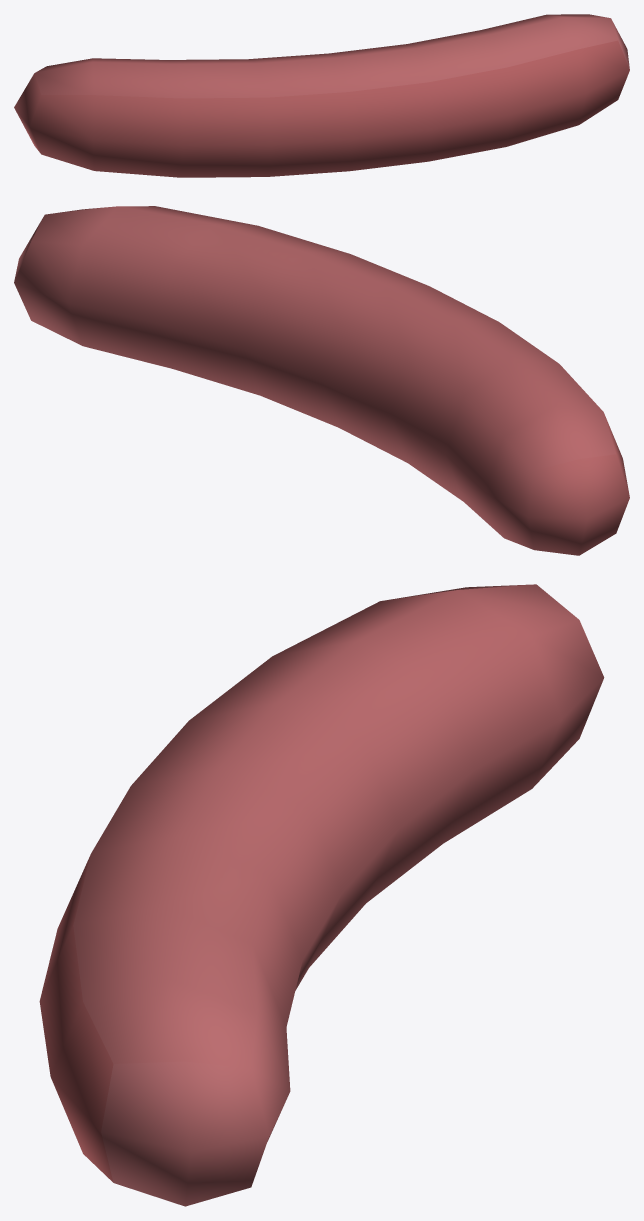
Rendered from 3D_Chopper_Items_Saussage.fbx.
3 views of the same model, one above another, from view 1: azimuth 30°, elevation 25°; view 2: azimuth 150°, elevation 25°; view 3: azimuth 270°, elevation 25° (orthographic). The views are drawn at different scales.
Visible parts, largest first — view 1: 3D_Chopper_Items_Saussage; view 2: 3D_Chopper_Items_Saussage; view 3: 3D_Chopper_Items_Saussage.
Boxes of the visible parts, x1=… form: 3D_Chopper_Items_Saussage: x1=14, y1=14, x2=629, y2=177; 3D_Chopper_Items_Saussage: x1=14, y1=206, x2=629, y2=555; 3D_Chopper_Items_Saussage: x1=39, y1=584, x2=604, y2=1206.
Size of the model in its own units: 76.15 by 15.04 by 35.27.
